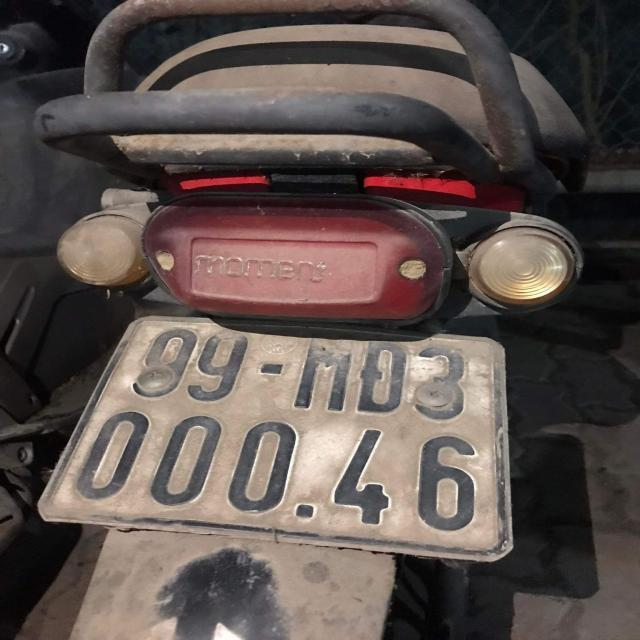0: (223, 416, 300, 516), (146, 412, 222, 511), (72, 406, 148, 504)
4: (324, 423, 396, 529)
6: (408, 432, 484, 534)
9: (186, 324, 249, 405)
D: (354, 337, 408, 416)
